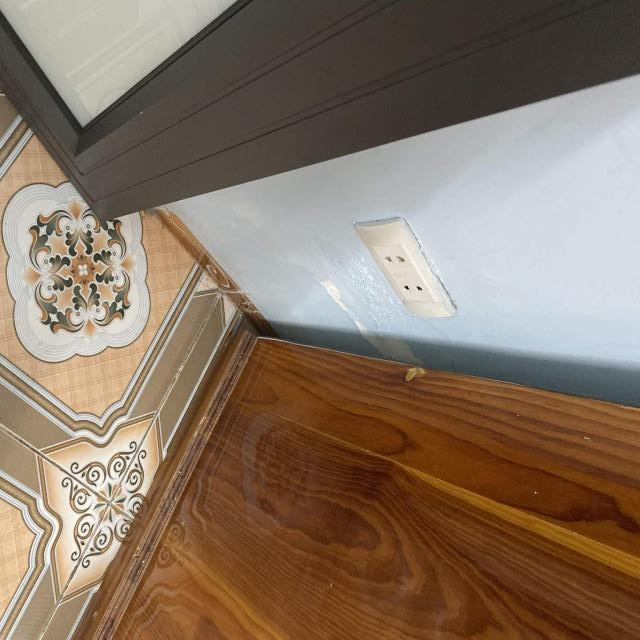outlet: (354, 216, 458, 318)
